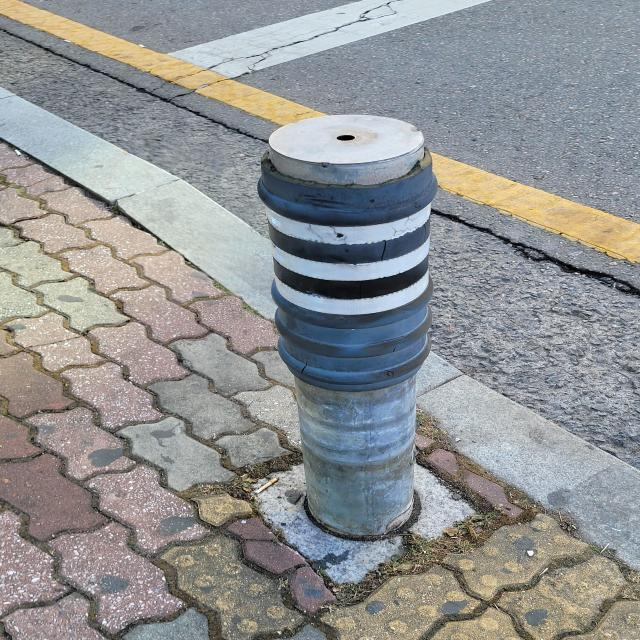pole: (257, 106, 443, 544)
